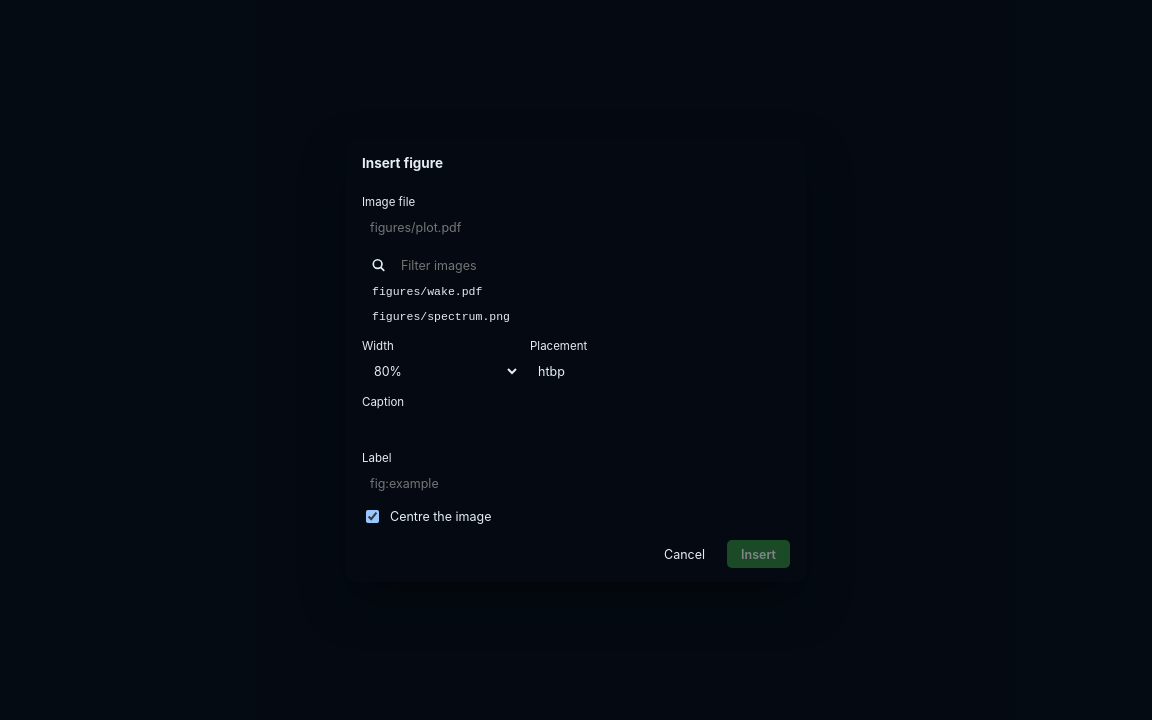
TypesetFigureDialog › lists only the project's images and filters them
This screenshot has width=1152, height=720.
Expected: the options read "figures/wake.pdf", "figures/spectrum.png", in this order, top-left (362, 279), bottom-right (790, 304); top-left (362, 304), bottom-right (790, 329)
Type "spec" into the search field named "Filter project images" at (588, 265), box top-left (393, 251), bottom-right (782, 279)
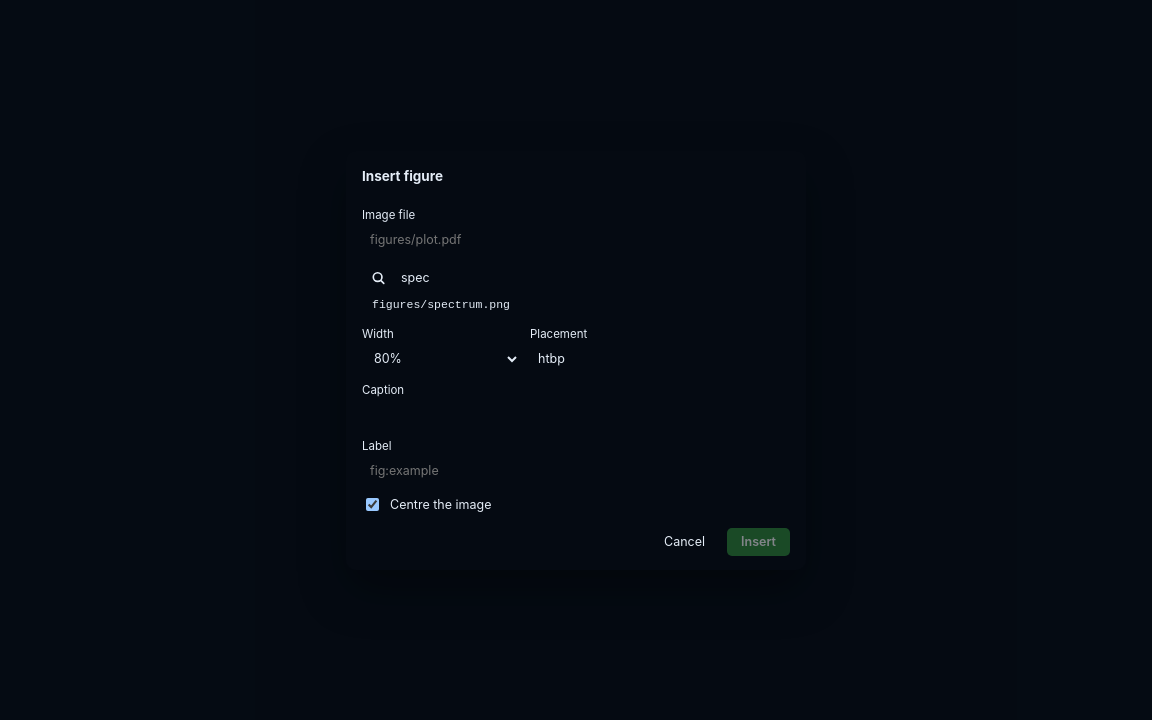
Now the options read "figures/spectrum.png", in this order, box top-left (362, 292), bottom-right (790, 316)
